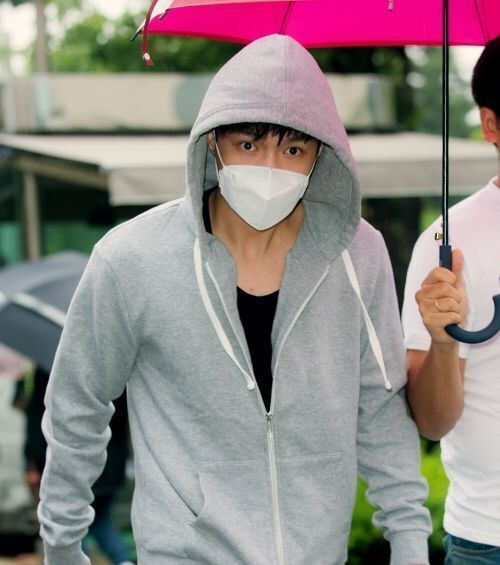face_mask: (216, 96, 314, 229)
